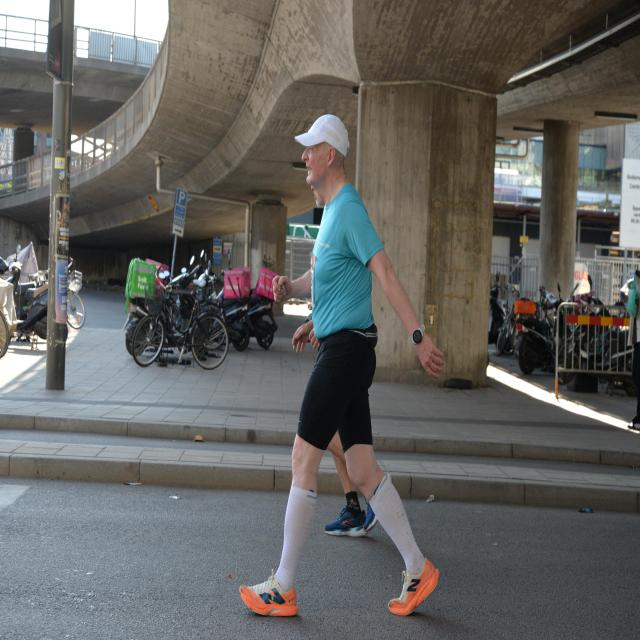runner-detect: (240, 106, 443, 630)
